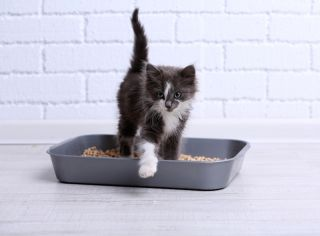cat: (101, 3, 209, 193)
